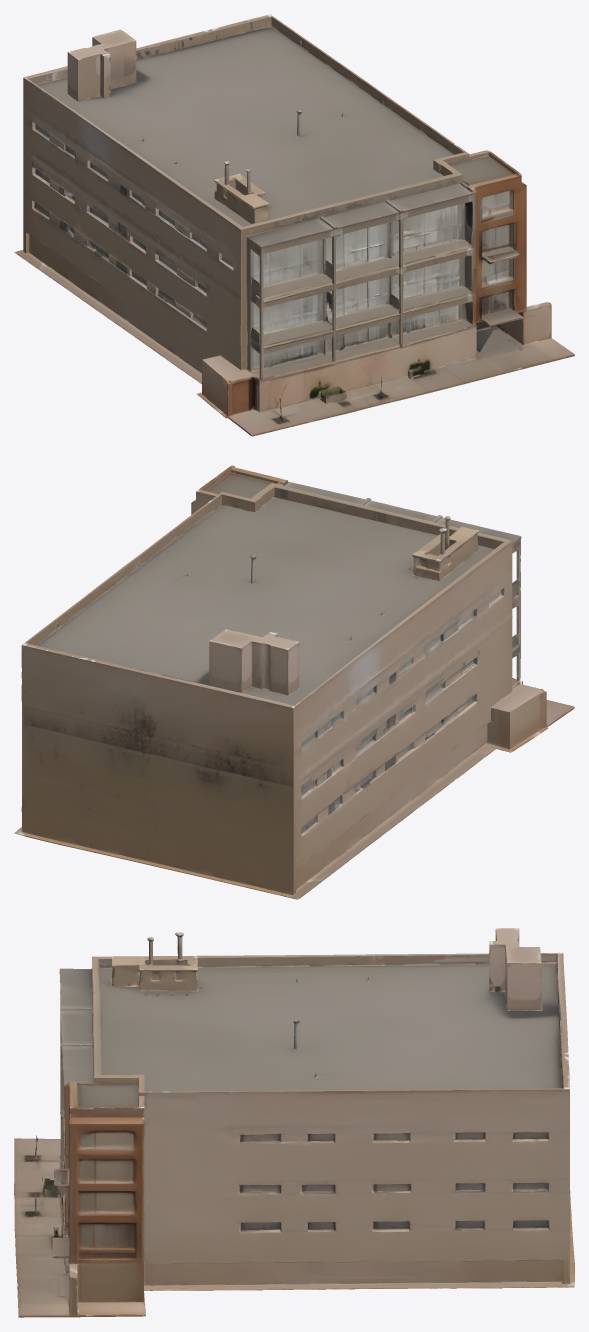
Rendered from modern_apartment_building_facade_scan.glb.
The picture shows the model from 3 angles, top to bottom: view 1: azimuth 30°, elevation 25°; view 2: azimuth 150°, elevation 25°; view 3: azimuth 270°, elevation 25°; orthographic projection. The views are drawn at different scales.
Visible parts, largest first — view 1: Object_3, Object_4, Object_2; view 2: Object_3, Object_4, Object_2; view 3: Object_3, Object_2, Object_4.
Part boxes in pixels (bbox=[...]): Object_3: bbox=[14, 14, 574, 436]; Object_4: bbox=[17, 16, 550, 436]; Object_2: bbox=[15, 17, 514, 421]; Object_3: bbox=[14, 468, 565, 899]; Object_4: bbox=[14, 465, 574, 899]; Object_2: bbox=[32, 471, 545, 895]; Object_3: bbox=[14, 928, 574, 1317]; Object_2: bbox=[14, 934, 574, 1316]; Object_4: bbox=[14, 929, 574, 1315].
Bounding box in the file's own units: 1.43 × 0.8778 × 1.9.
1 material, 1 textured.
